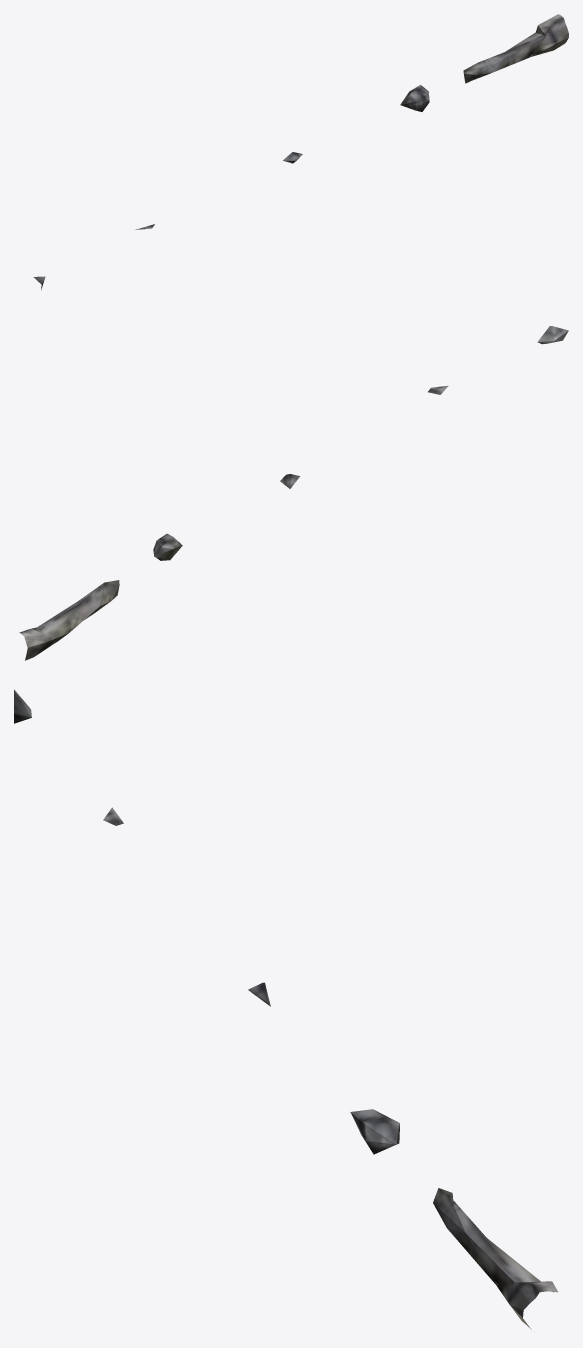
3 renders of one model, top to bottom at view 1: azimuth 30°, elevation 25°; view 2: azimuth 210°, elevation 25°; view 3: azimuth 270°, elevation 25°, orthographic. The views are drawn at different scales.
Bounding box in the file's own units: 1.6 × 0.1056 × 0.6515.
1 material, 1 textured.
